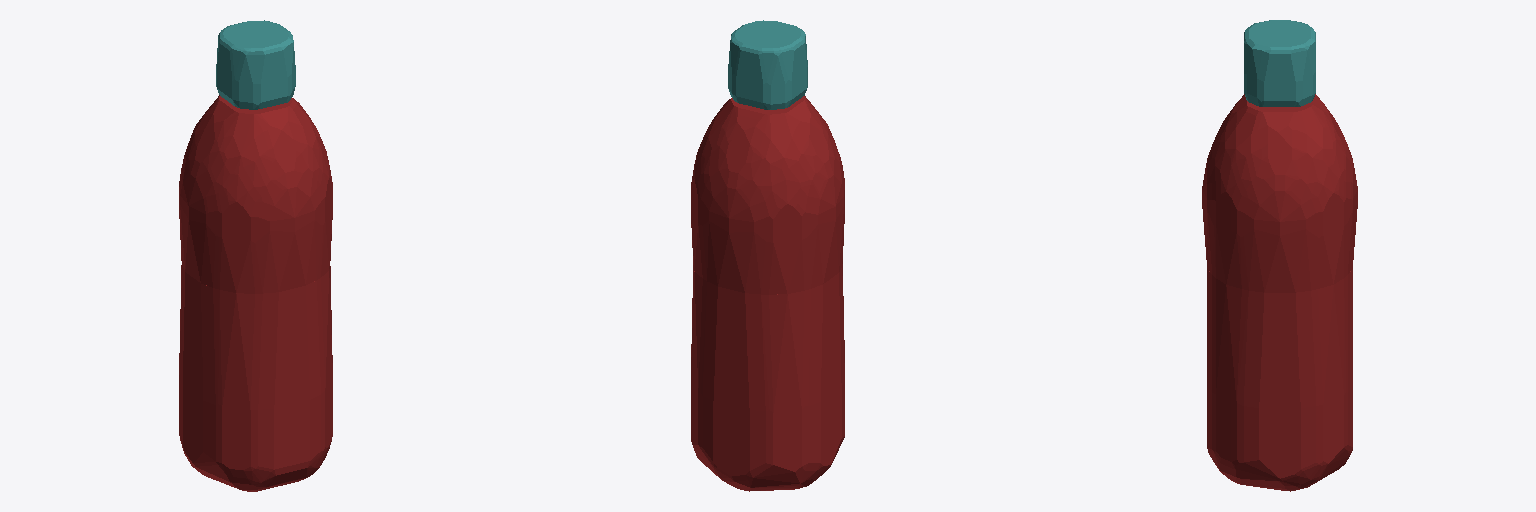
robot.urdf — root:
<robot name="root">
  <link name="bottle_body">
    <inertial>
      <origin xyz="0 0 0" rpy="0 0 0"/>
    </inertial>
    <mass value="1.00E-02"/>
    <visual>
      <origin xyz="0 0 0" rpy="0 0 0"/>
      <geometry>
        <mesh filename="core-bottle-bf7ecd80f7c419feca972daa503b3095-coacd_convex_piece_2.obj" scale="1.0000E-01 1.0000E-01 1.0000E-01"/>
      </geometry>
      <material name="">
        <color rgba="6.00E-01 2.00E-01 2.00E-01 1"/>
      </material>
    </visual>
    <collision>
      <origin xyz="0 0 0" rpy="0 0 0"/>
      <geometry>
        <mesh filename="core-bottle-bf7ecd80f7c419feca972daa503b3095-coacd_convex_piece_2.obj" scale="1.0000E-01 1.0000E-01 1.0000E-01"/>
      </geometry>
    </collision>
    <visual>
      <origin xyz="0 0 0" rpy="0 0 0"/>
      <geometry>
        <mesh filename="core-bottle-bf7ecd80f7c419feca972daa503b3095-coacd_convex_piece_0.obj" scale="1.0000E-01 1.0000E-01 1.0000E-01"/>
      </geometry>
      <material name="">
        <color rgba="6.00E-01 2.00E-01 2.00E-01 1"/>
      </material>
    </visual>
    <collision>
      <origin xyz="0 0 0" rpy="0 0 0"/>
      <geometry>
        <mesh filename="core-bottle-bf7ecd80f7c419feca972daa503b3095-coacd_convex_piece_0.obj" scale="1.0000E-01 1.0000E-01 1.0000E-01"/>
      </geometry>
    </collision>
  </link>
  <link name="bottle_cap">
    <origin xyz="0 0 0.002" rpy="0 0 0"/>
    <mass value="1.00E-02"/>
    <visual>
      <origin xyz="0 0 0.002" rpy="0 0 0"/>
      <geometry>
        <mesh filename="core-bottle-bf7ecd80f7c419feca972daa503b3095-coacd_convex_piece_1.obj" scale="1.0000E-01 1.0000E-01 1.0000E-01"/>
      </geometry>
      <material name="">
        <color rgba="3.00E-01 6.00E-01 6.00E-01 1"/>
      </material>
    </visual>
    <collision>
      <origin xyz="0 0 0.002" rpy="0 0 0"/>
      <geometry>
        <mesh filename="core-bottle-bf7ecd80f7c419feca972daa503b3095-coacd_convex_piece_1.obj" scale="1.0000E-01 1.0000E-01 1.0000E-01"/>
      </geometry>
    </collision>
  </link>
  <joint name="bottle_cap_joint" type="revolute">
    <origin xyz="0 0 0" rpy="0 0 0"/>
    <parent link="bottle_body"/>
    <child link="bottle_cap"/>
    <axis xyz="0 0 1"/>
    <limit lower="0.00" upper="6.28"/>
    <dynamics damping="0.05"/>
  </joint>
</robot>

--- Render facts (derived) ---
Views: 3 orthographic renders of the robot side by side, from view 1: azimuth 30°, elevation 25°; view 2: azimuth 150°, elevation 25°; view 3: azimuth 270°, elevation 25°.
Model root with 2 links and 1 joints (1 revolute), rooted at bottle_body, posed every joint at zero.
Visible links, largest first — view 1: bottle_body, bottle_cap; view 2: bottle_body, bottle_cap; view 3: bottle_body, bottle_cap.
Link boxes in pixels (left/top/right/bottom): bottle_body: left=179, top=95, right=332, bottom=491; bottle_cap: left=216, top=20, right=295, bottom=109; bottle_body: left=691, top=96, right=844, bottom=491; bottle_cap: left=728, top=20, right=807, bottom=109; bottle_body: left=1202, top=94, right=1357, bottom=491; bottle_cap: left=1244, top=20, right=1315, bottom=106.
Size in the robot's own frame: 0.0631 by 0.0631 by 0.1956 metres.
Meshes: 3 distinct files referenced, 3 mesh visuals loaded (3 OBJ).